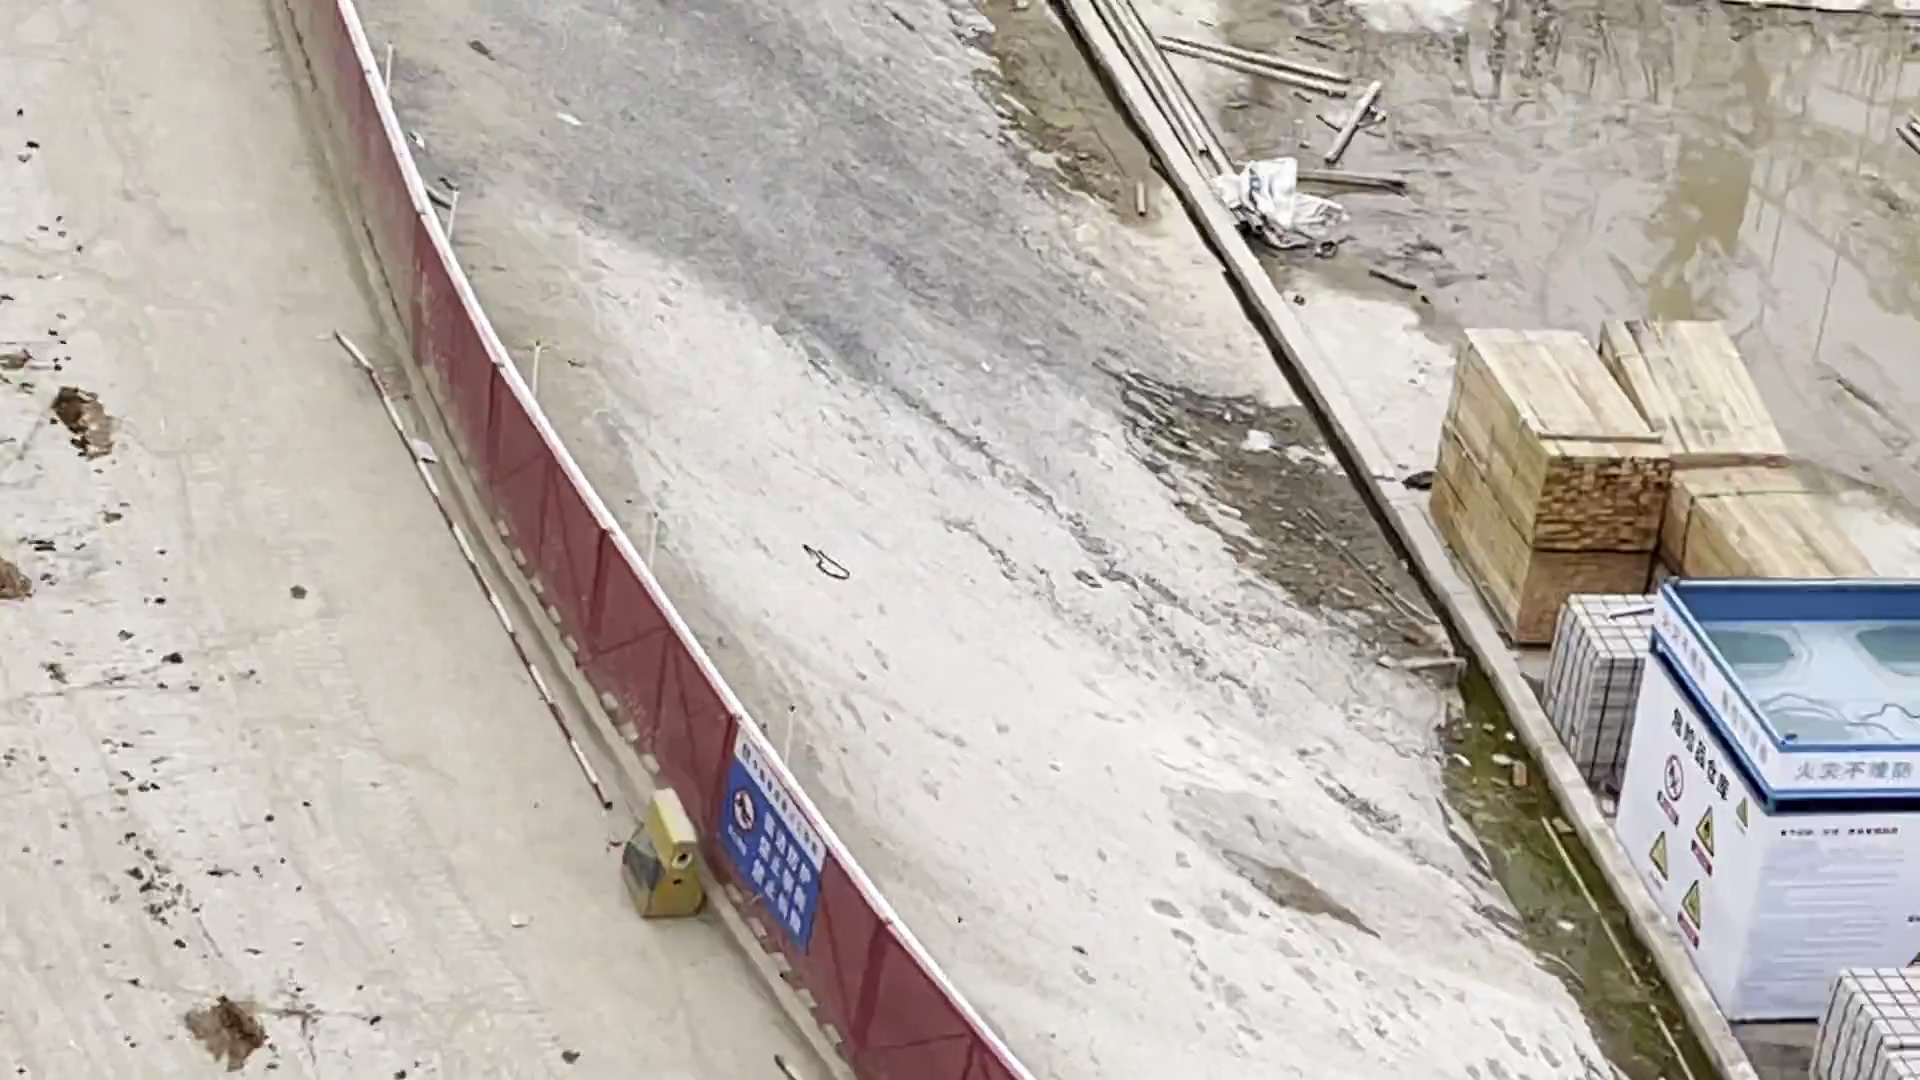brick: (1545, 582, 1656, 775), (1787, 953, 1920, 1077)
fence: (262, 1, 715, 620), (556, 599, 1069, 1080)
slogan: (1621, 587, 1920, 1022), (711, 713, 884, 965)
wood: (1415, 272, 1907, 620)
